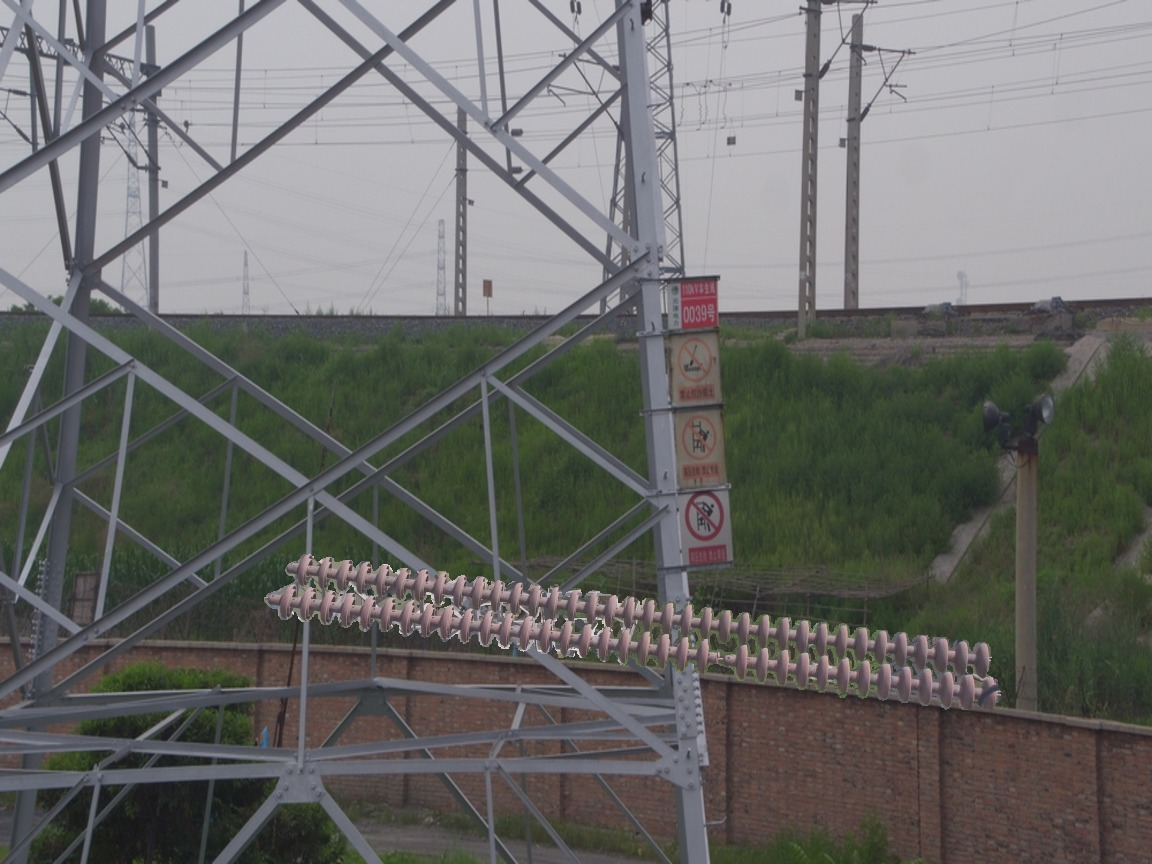defect: (692, 637, 756, 682)
